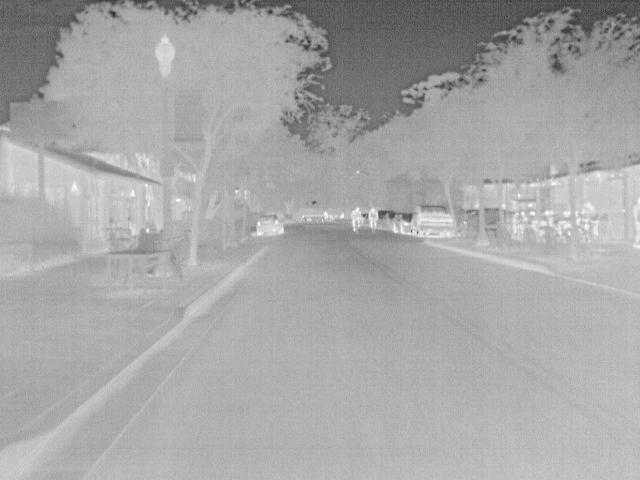car: (411, 206, 455, 236), (255, 213, 285, 239), (391, 212, 417, 233), (380, 211, 397, 231)
person: (628, 200, 640, 248), (350, 206, 363, 232), (368, 205, 380, 230), (584, 200, 598, 214), (322, 209, 331, 220)
